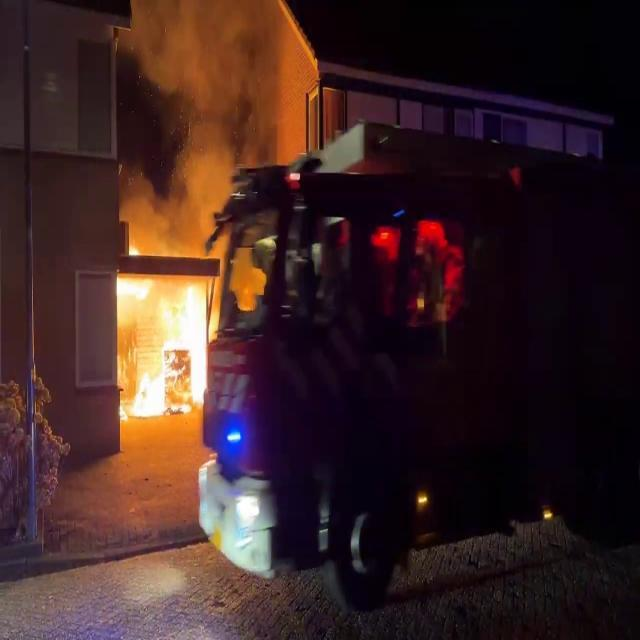Fire: (114, 249, 220, 422)
Smoke: (118, 0, 291, 237)
